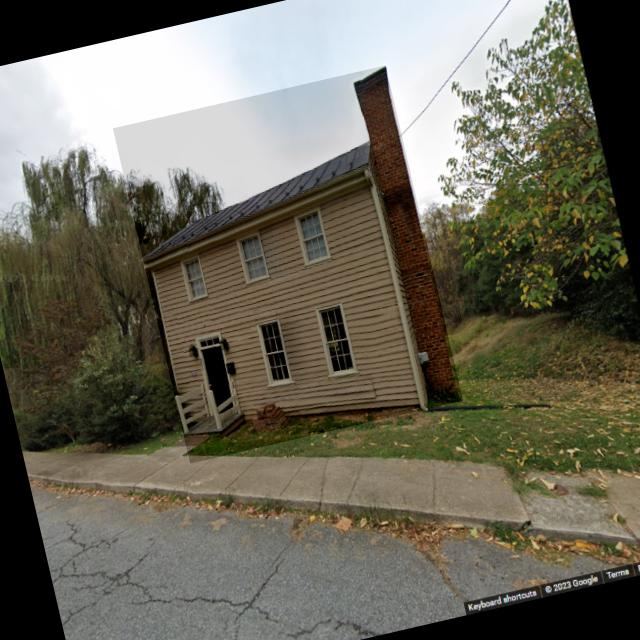House: (112, 65, 463, 463)
